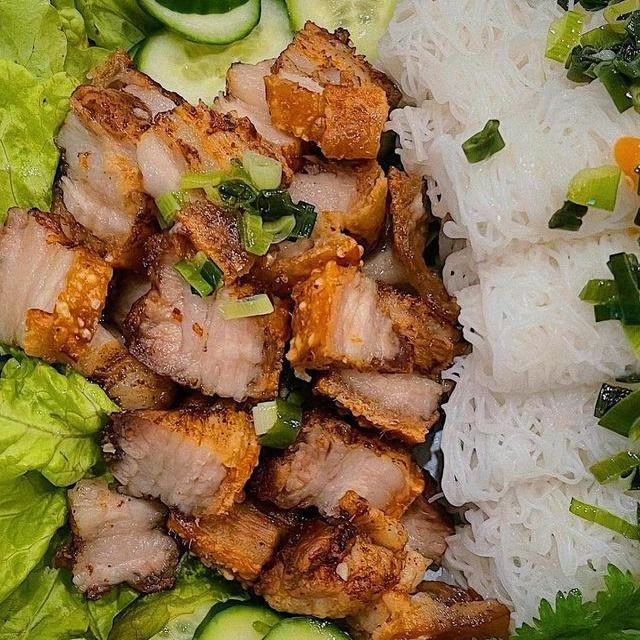banh hoi: (426, 63, 640, 271), (427, 331, 640, 520), (433, 450, 640, 640), (460, 215, 640, 407), (368, 0, 640, 110)
banh hoi heo quay: (0, 0, 640, 640)
thit heo quay: (138, 32, 321, 244), (42, 45, 200, 273), (113, 223, 301, 413), (273, 253, 482, 387), (87, 384, 272, 531), (243, 484, 420, 630), (245, 401, 432, 538), (239, 140, 396, 303), (257, 12, 404, 172), (0, 199, 123, 370), (51, 456, 187, 604), (301, 338, 458, 454)
